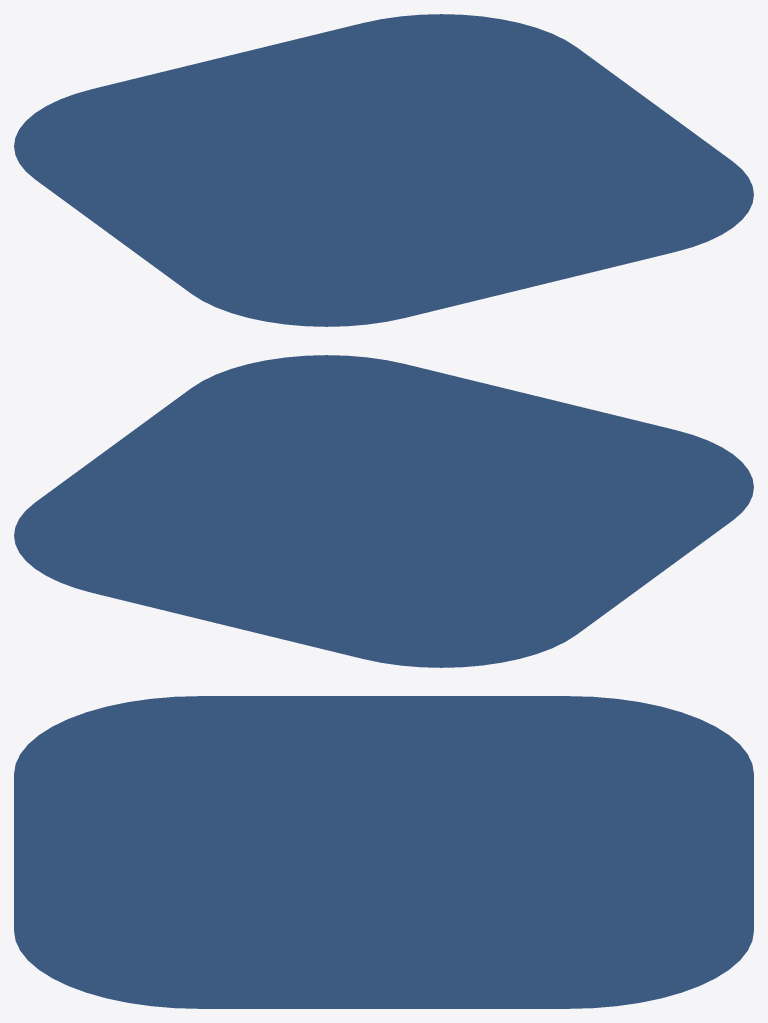
The model's file is BuildingRoof.fbx.
The picture shows the model from 3 angles, top to bottom: view 1: azimuth 30°, elevation 25°; view 2: azimuth 150°, elevation 25°; view 3: azimuth 270°, elevation 25°; orthographic projection. The views are drawn at different scales.
Visible parts, largest first — view 1: BuildingRoof; view 2: BuildingRoof; view 3: BuildingRoof.
Boxes of the visible parts, left/top/right/bottom form: BuildingRoof: left=14, top=14, right=753, bottom=326; BuildingRoof: left=14, top=355, right=753, bottom=667; BuildingRoof: left=14, top=696, right=753, bottom=1008.
Size of the model in its own units: 50 by 50 by 0.
